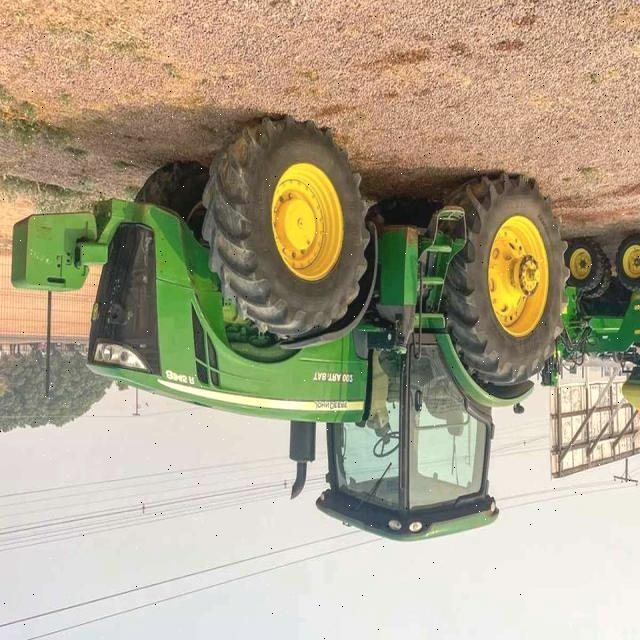Tratores - v5 YOLO V8L 2024-11-13: (14, 121, 565, 548)
